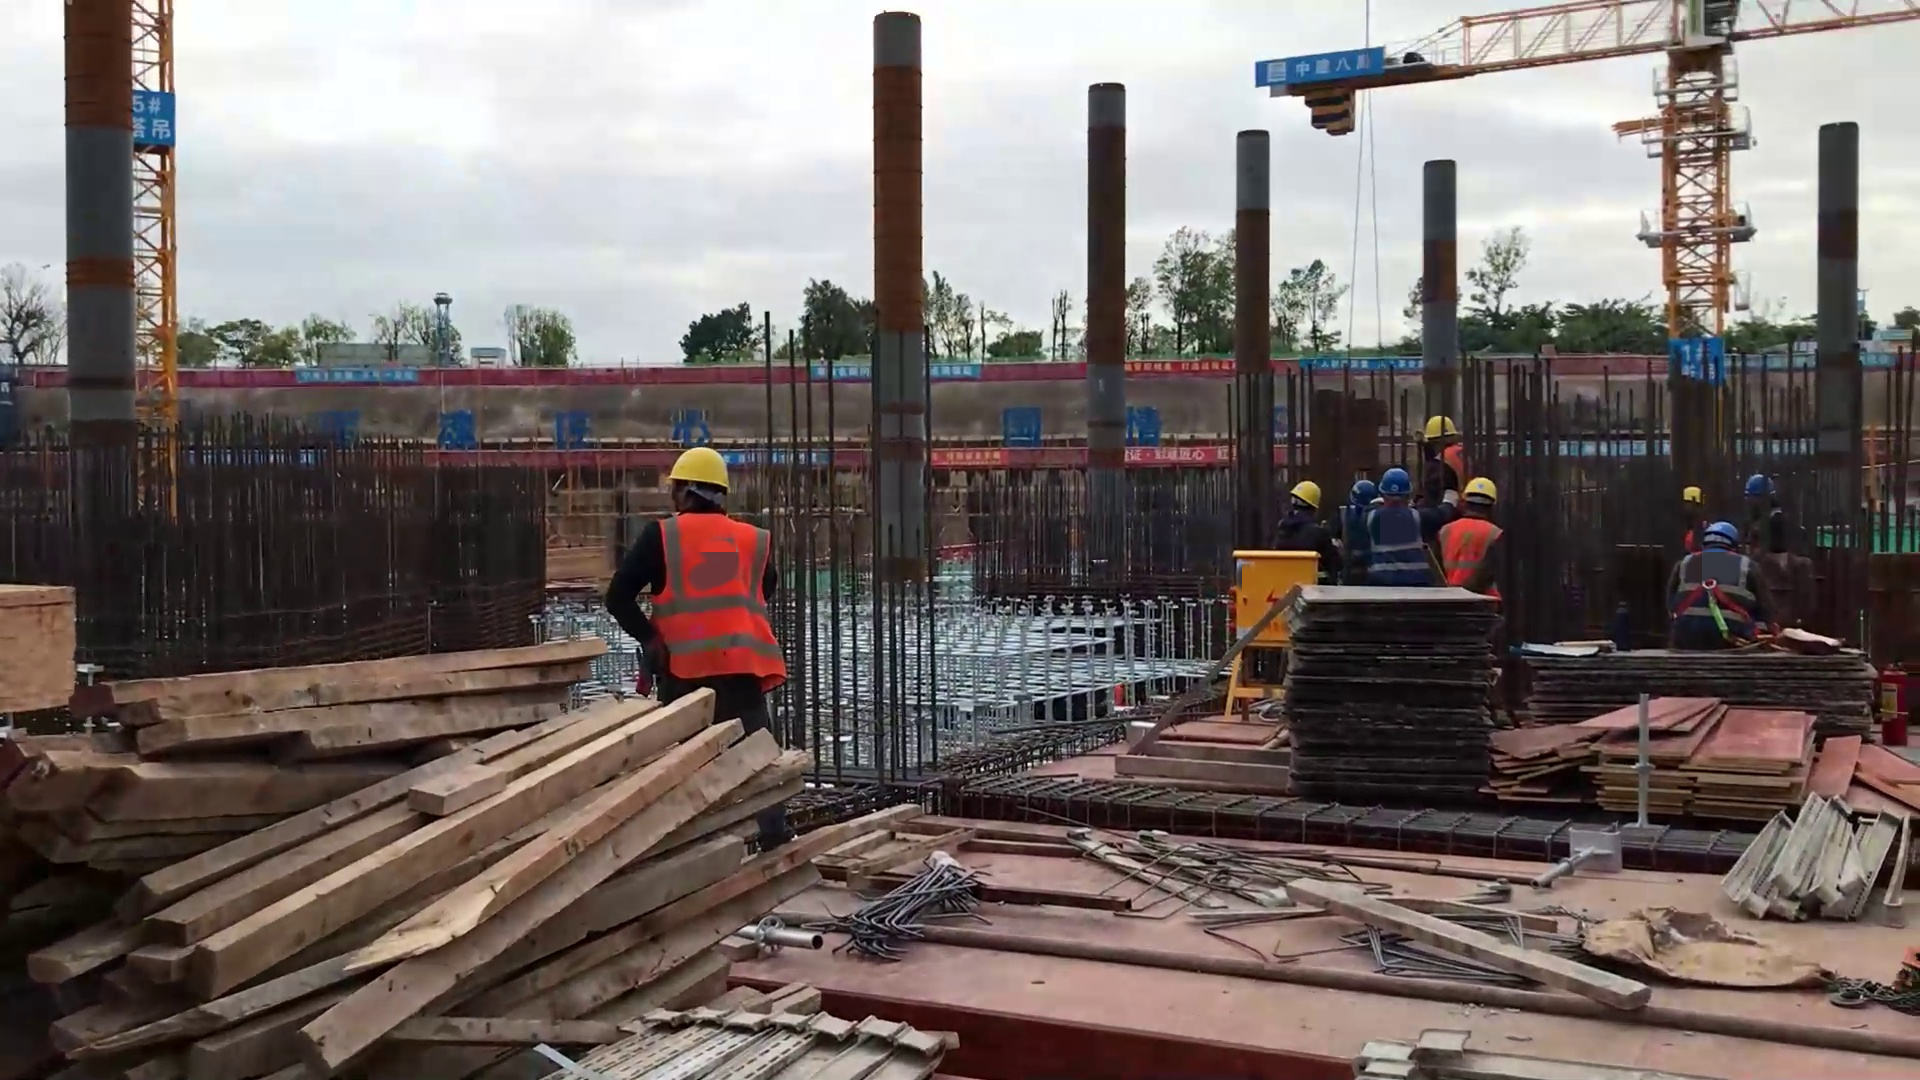helmet: (658, 449, 731, 492), (1415, 416, 1469, 442), (1742, 468, 1776, 495), (1373, 466, 1404, 493), (1464, 476, 1494, 501), (1291, 482, 1324, 501), (1682, 486, 1709, 506), (1348, 481, 1372, 503)
person: (638, 451, 767, 712), (1670, 521, 1768, 651), (1364, 466, 1434, 594), (1446, 477, 1506, 597), (1276, 484, 1332, 587), (1416, 417, 1470, 494), (1340, 478, 1373, 573), (1742, 462, 1785, 527), (1674, 482, 1708, 542)
vest: (639, 511, 769, 676), (1389, 509, 1435, 586), (1699, 549, 1743, 627), (1283, 511, 1325, 586), (1439, 522, 1476, 581), (1438, 451, 1482, 494), (1759, 511, 1795, 552), (1356, 511, 1374, 567), (1678, 519, 1708, 550)
